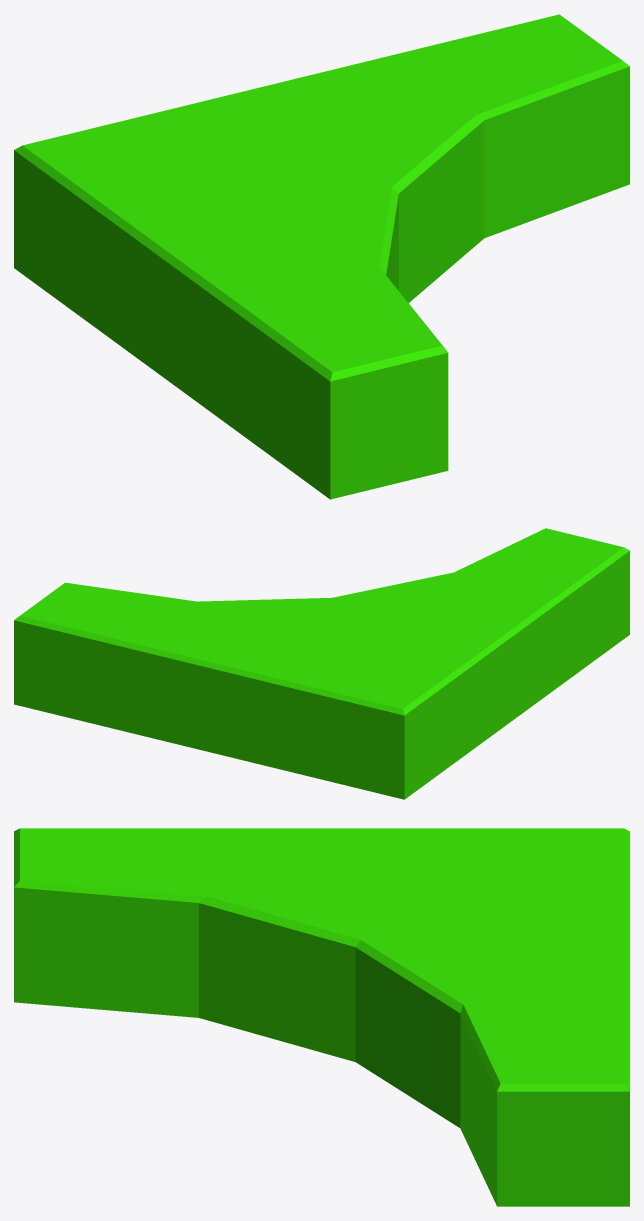
The model's file is round_5x1_03.fbx.
3 renders of one model, top to bottom at view 1: azimuth 30°, elevation 25°; view 2: azimuth 150°, elevation 25°; view 3: azimuth 270°, elevation 25°, orthographic. The views are drawn at different scales.
Visible parts, largest first — view 1: round_5x1_03; view 2: round_5x1_03; view 3: round_5x1_03.
Boxes of the visible parts, left/top/right/bottom form: round_5x1_03: left=14, top=14, right=629, bottom=499; round_5x1_03: left=14, top=528, right=629, bottom=799; round_5x1_03: left=14, top=828, right=629, bottom=1206.
Bounding box in the file's own units: 510 × 110 × 510.
